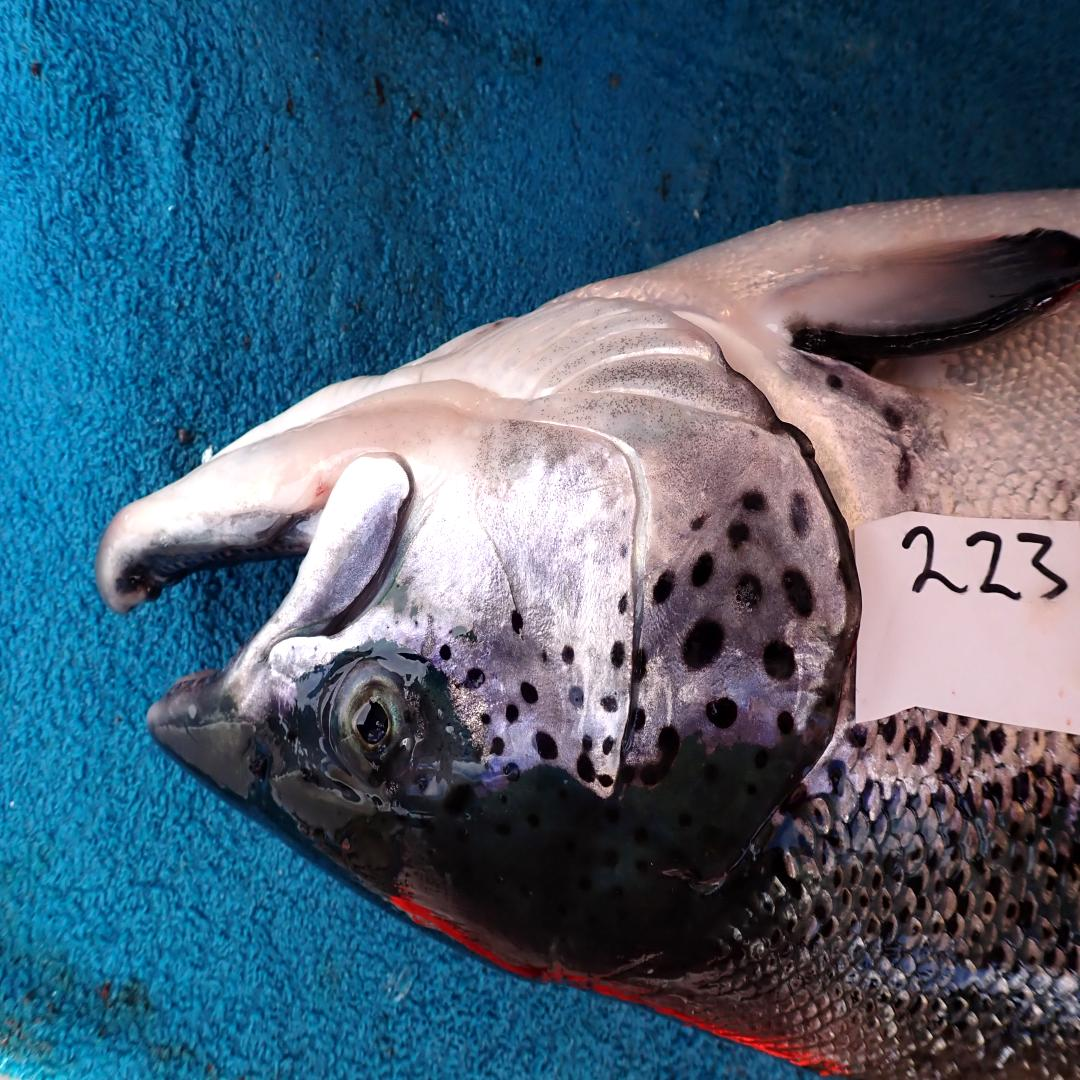roi: (419, 283, 859, 795)
